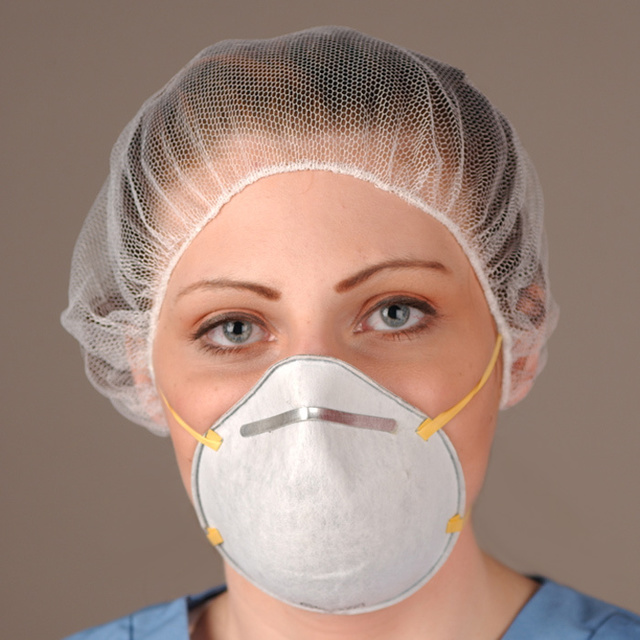mask: (192, 379, 452, 599)
